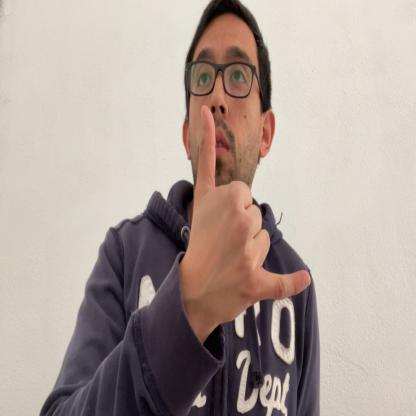Y: (189, 105, 311, 320)
